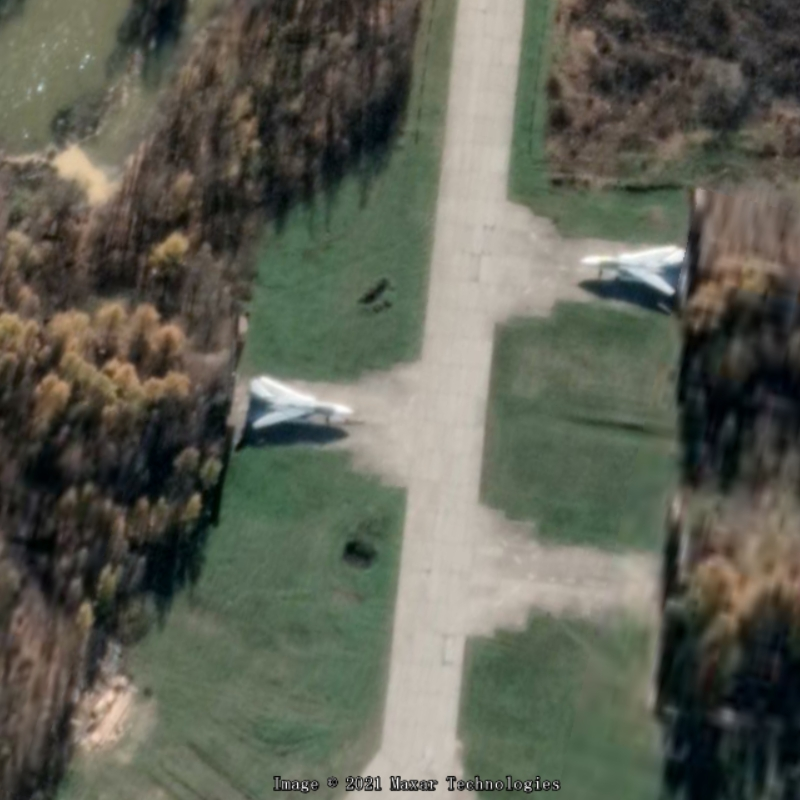A20: (246, 373, 356, 432), (578, 242, 689, 299)
